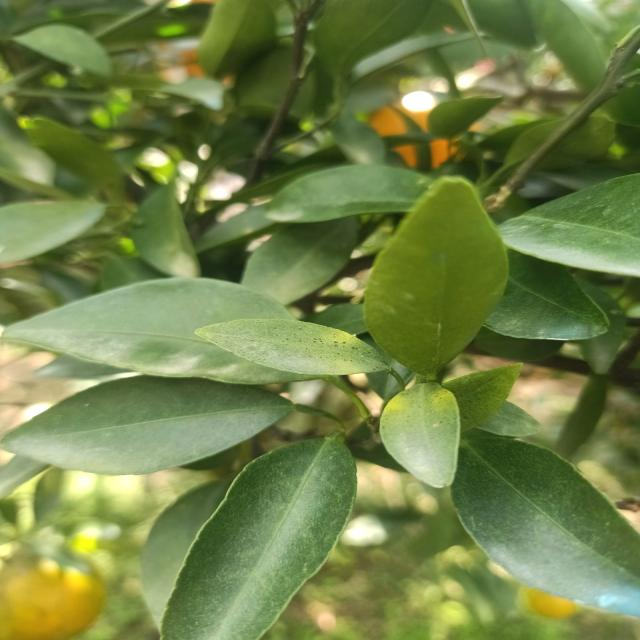blackspot: (200, 314, 394, 382), (381, 382, 459, 483)
